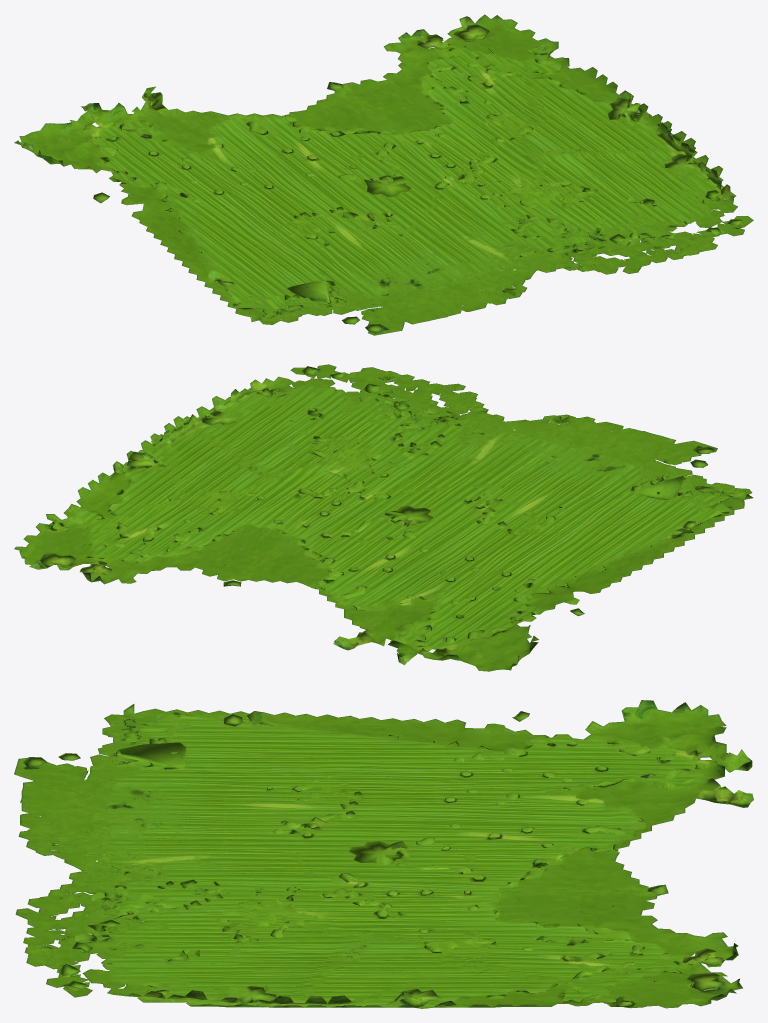
The model's file is wild_grass_patch.glb.
3 renders of one model, top to bottom at view 1: azimuth 30°, elevation 25°; view 2: azimuth 150°, elevation 25°; view 3: azimuth 270°, elevation 25°, orthographic. The views are drawn at different scales.
Bounding box in the file's own units: 1.86 × 0.0548 × 1.9.
1 material, 1 textured.
